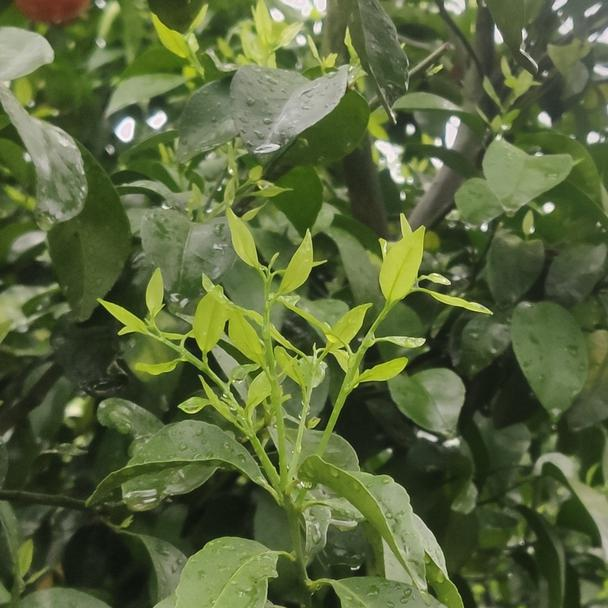shoot: (326, 219, 472, 439), (110, 275, 262, 447), (222, 226, 325, 456)
